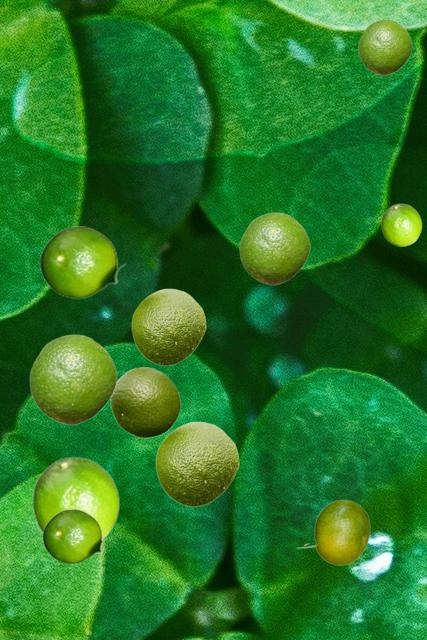calamansi: (29, 334, 116, 424), (32, 456, 119, 539), (155, 421, 238, 506), (39, 226, 126, 298), (131, 288, 205, 365), (239, 212, 309, 284), (110, 366, 180, 437), (295, 499, 369, 564), (42, 509, 108, 563), (358, 19, 411, 74), (381, 203, 421, 245)
